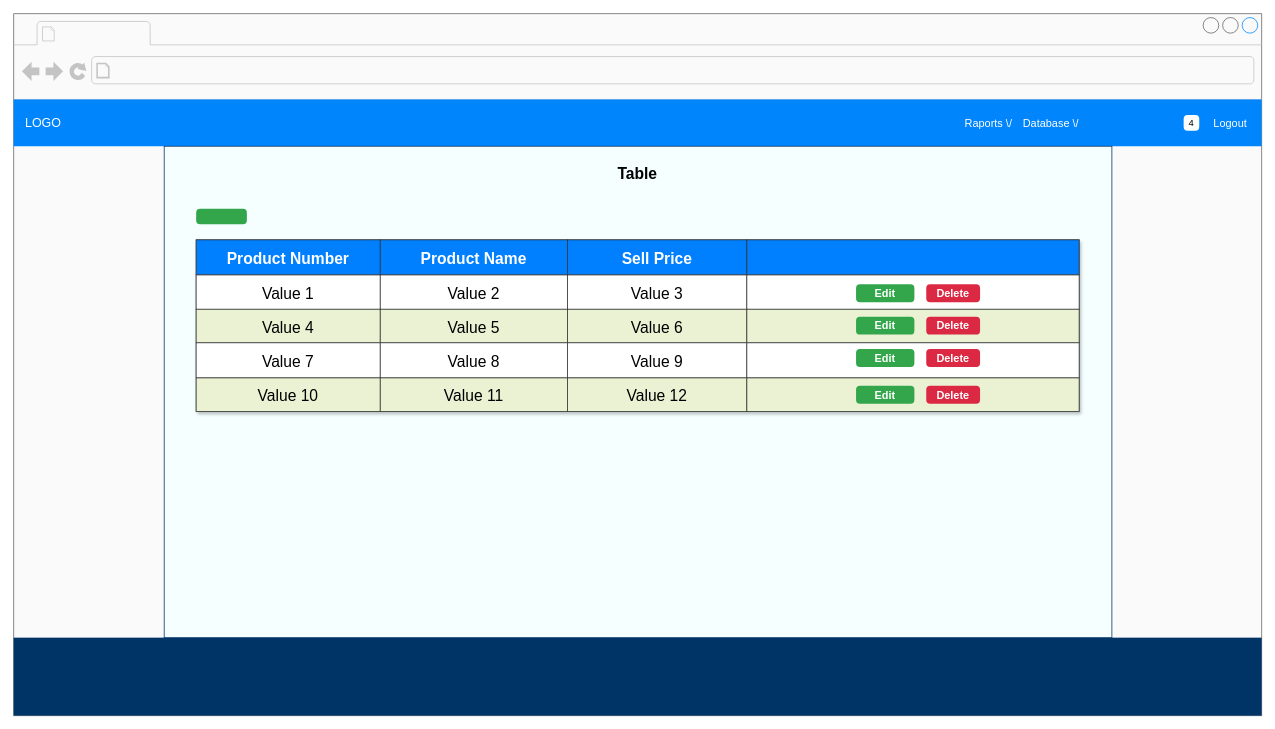
Some shapes in this 1275 by 729 pixel diagram are drawn without their labels. Here are the shapes that lost their labels. From the top down, the centre of each, then its label:
the point at 103,32: Page 1
the point at 212,70: https://www.draw.io
the point at 1144,122: Training Requests
the point at 221,216: Add
